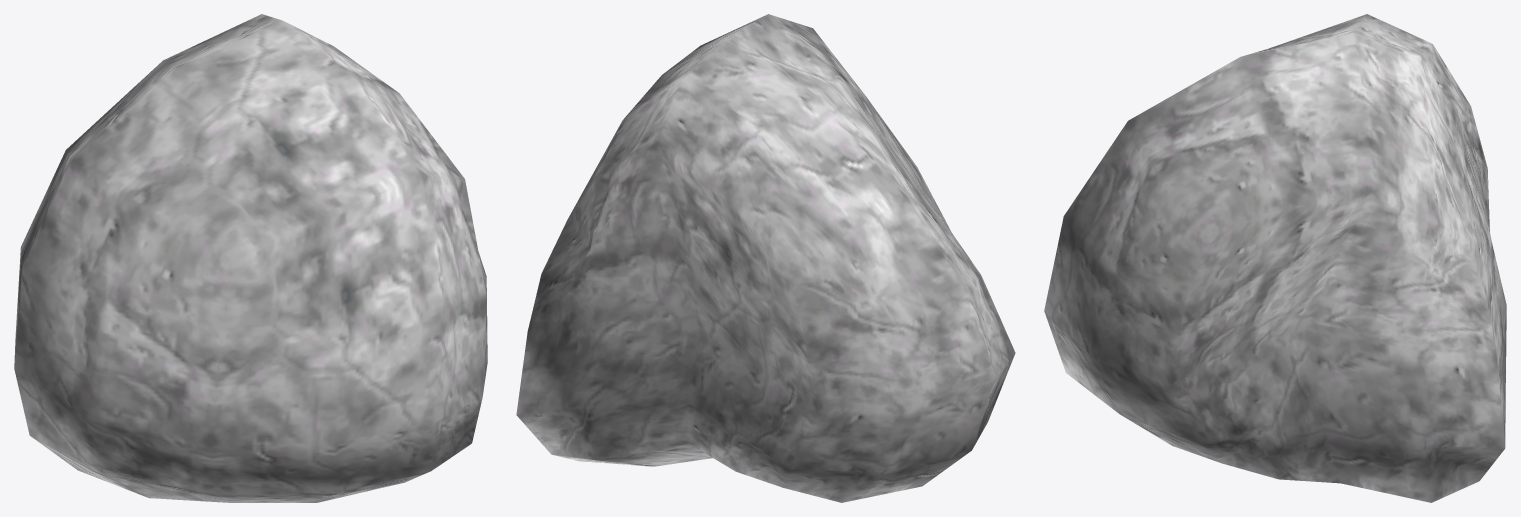
File: INST_TROLLHOLE_ROCKF.fbx
3 renders of one model, left to right at view 1: azimuth 30°, elevation 25°; view 2: azimuth 150°, elevation 25°; view 3: azimuth 270°, elevation 25°, orthographic.
Parts seen in each view (by area): view 1: INST_TROLLHOLE_ROCKF; view 2: INST_TROLLHOLE_ROCKF; view 3: INST_TROLLHOLE_ROCKF.
Part boxes in pixels (<box>): INST_TROLLHOLE_ROCKF: <box>14,14,487,502</box>; INST_TROLLHOLE_ROCKF: <box>516,14,1015,502</box>; INST_TROLLHOLE_ROCKF: <box>1044,14,1506,502</box>.
Size of the model in its own units: 20621 by 20621 by 20621.
1 material, 1 textured.
